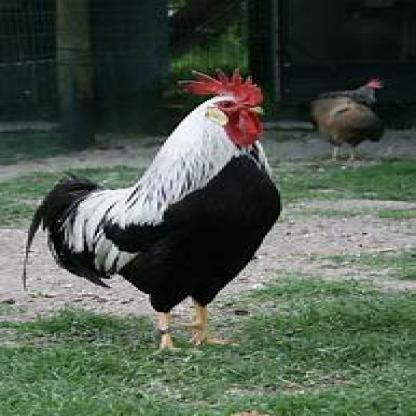dog: (21, 65, 282, 355)
